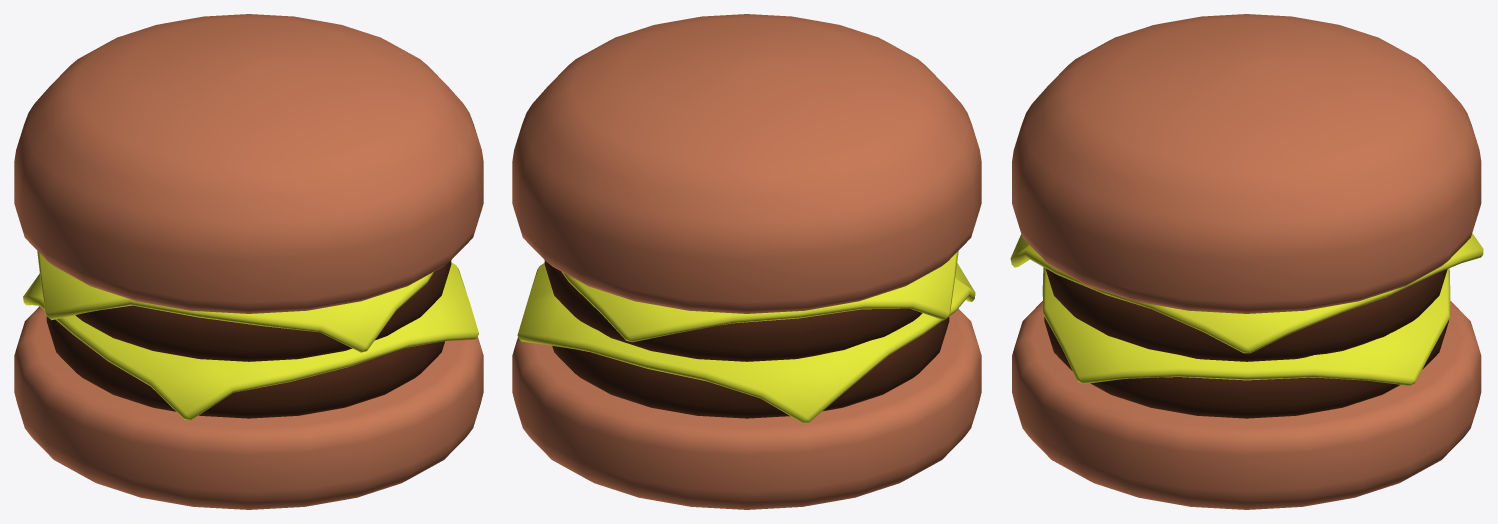
The model's file is Burger_1 (1).fbx.
The picture shows the model from 3 angles, left to right: view 1: azimuth 30°, elevation 25°; view 2: azimuth 150°, elevation 25°; view 3: azimuth 270°, elevation 25°; orthographic projection.
Parts seen in each view (by area): view 1: Burger; view 2: Burger; view 3: Burger.
Part boxes in pixels (x1,y1,x2,y2): Burger: (14, 14, 483, 509); Burger: (512, 14, 981, 509); Burger: (1010, 14, 1483, 509).
Bounding box in the file's own units: 2.33 × 2.01 × 2.34.
